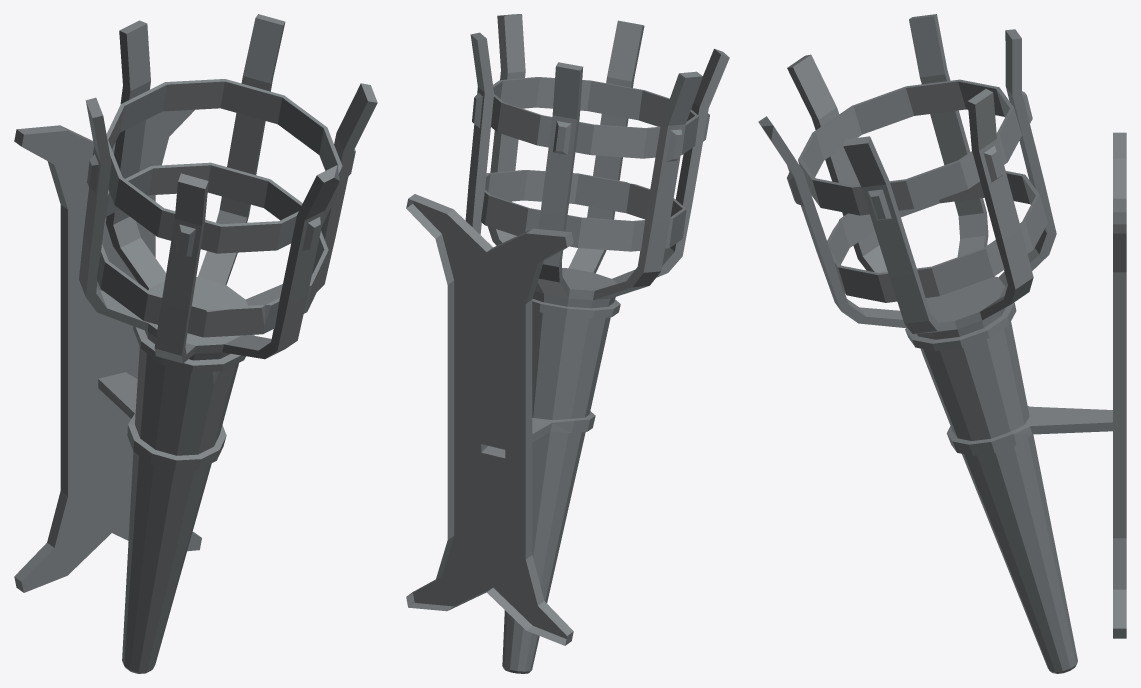
File: Torche_1.FBX
3 renders of one model, left to right at view 1: azimuth 30°, elevation 25°; view 2: azimuth 150°, elevation 25°; view 3: azimuth 270°, elevation 25°, orthographic. The views are drawn at different scales.
Parts seen in each view (by area): view 1: Torche_1; view 2: Torche_1; view 3: Torche_1.
Boxes of the visible parts, x1=… form: Torche_1: x1=14, y1=14, x2=377, y2=673; Torche_1: x1=406, y1=14, x2=729, y2=673; Torche_1: x1=758, y1=14, x2=1126, y2=673.
Bounding box in the file's own units: 14.47 × 36.39 × 19.52.
1 material, 1 textured.
